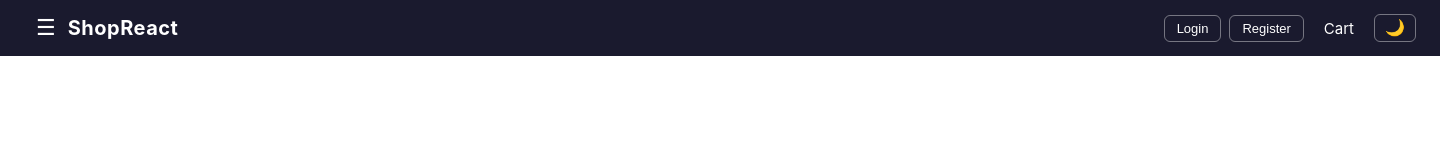
Test: Navbar theme toggle — moon/sun display (criteria 1 & 2) › criterion 1: clicking the moon button switches display to sun (☀️)
Click the button named "toggle theme". click: (1395, 28)
box: [1374,14,1416,42]
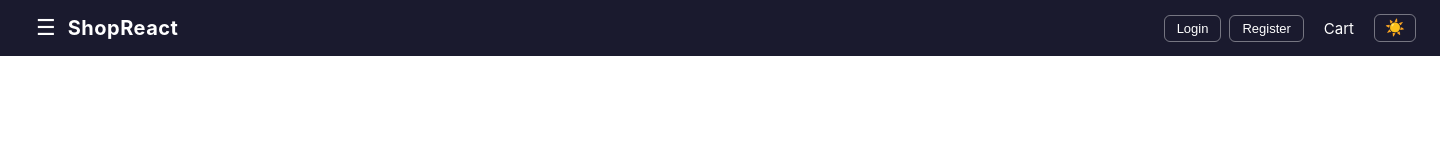
Now the button named "toggle theme" reads "☀️", box [1374,14,1416,42]
